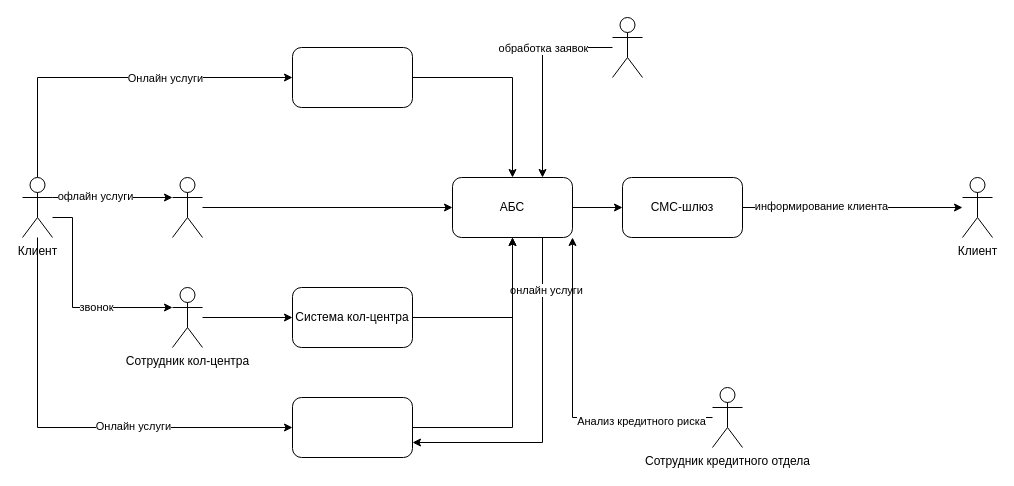
This 1014x486 diagram has some shape labels left out. Each missing label, with the centre of its shape:
"Интернет-банк" goes at [352,77].
"Сайт" goes at [352,427].
"Сотрудник бэк-офиса" goes at [627,47].
"Сотрудник фронт-офиса" goes at [187,207].
